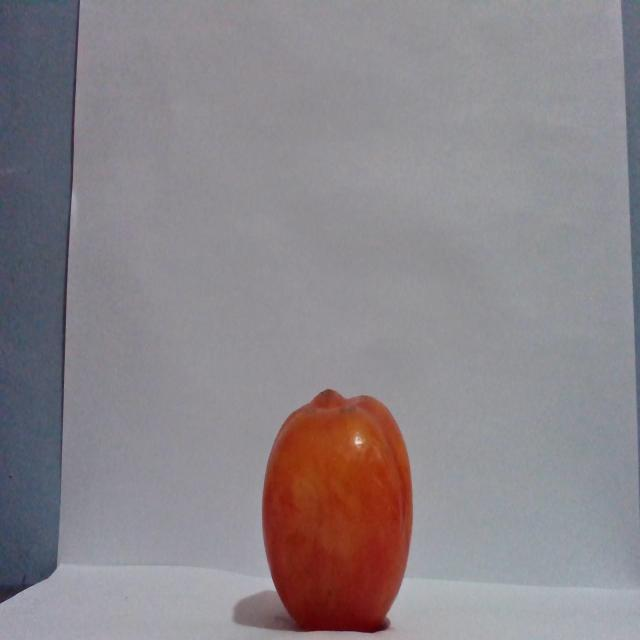Red: (260, 387, 414, 632)
